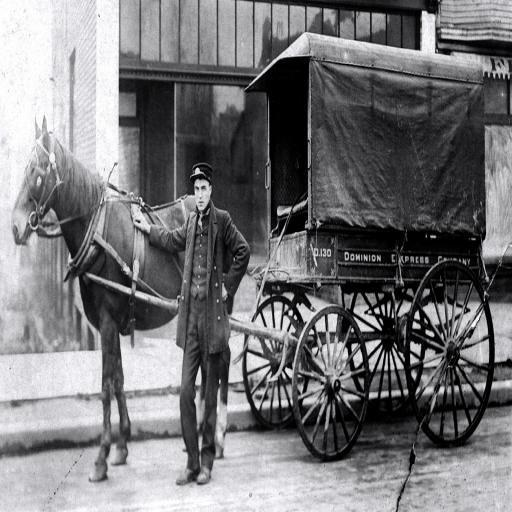horse: (10, 113, 232, 482)
